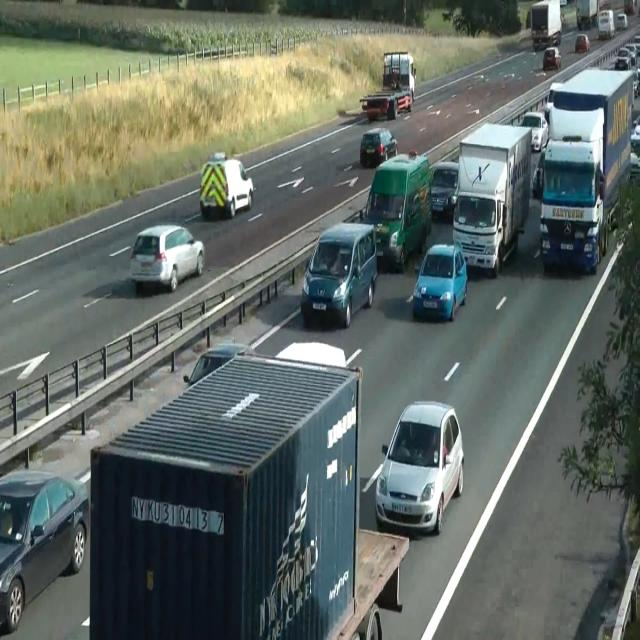bus: (0, 467, 88, 633), (183, 339, 347, 390), (129, 223, 205, 293), (412, 242, 468, 322), (596, 546, 640, 639), (183, 340, 256, 390), (429, 161, 459, 219), (360, 127, 398, 168), (520, 110, 548, 152), (532, 147, 546, 197), (543, 46, 561, 70), (630, 115, 640, 149), (630, 151, 640, 178), (575, 34, 589, 52), (632, 67, 640, 97), (617, 12, 627, 28), (560, 0, 566, 7)
car: (538, 137, 606, 275)
jeep: (374, 399, 464, 536), (300, 220, 378, 328), (198, 151, 254, 219)
minibus: (89, 348, 409, 639), (538, 66, 634, 274), (452, 122, 532, 277), (360, 149, 432, 272), (359, 50, 416, 122), (359, 86, 412, 122), (382, 51, 416, 101), (530, 0, 562, 49), (576, 0, 598, 29), (598, 9, 614, 40)
